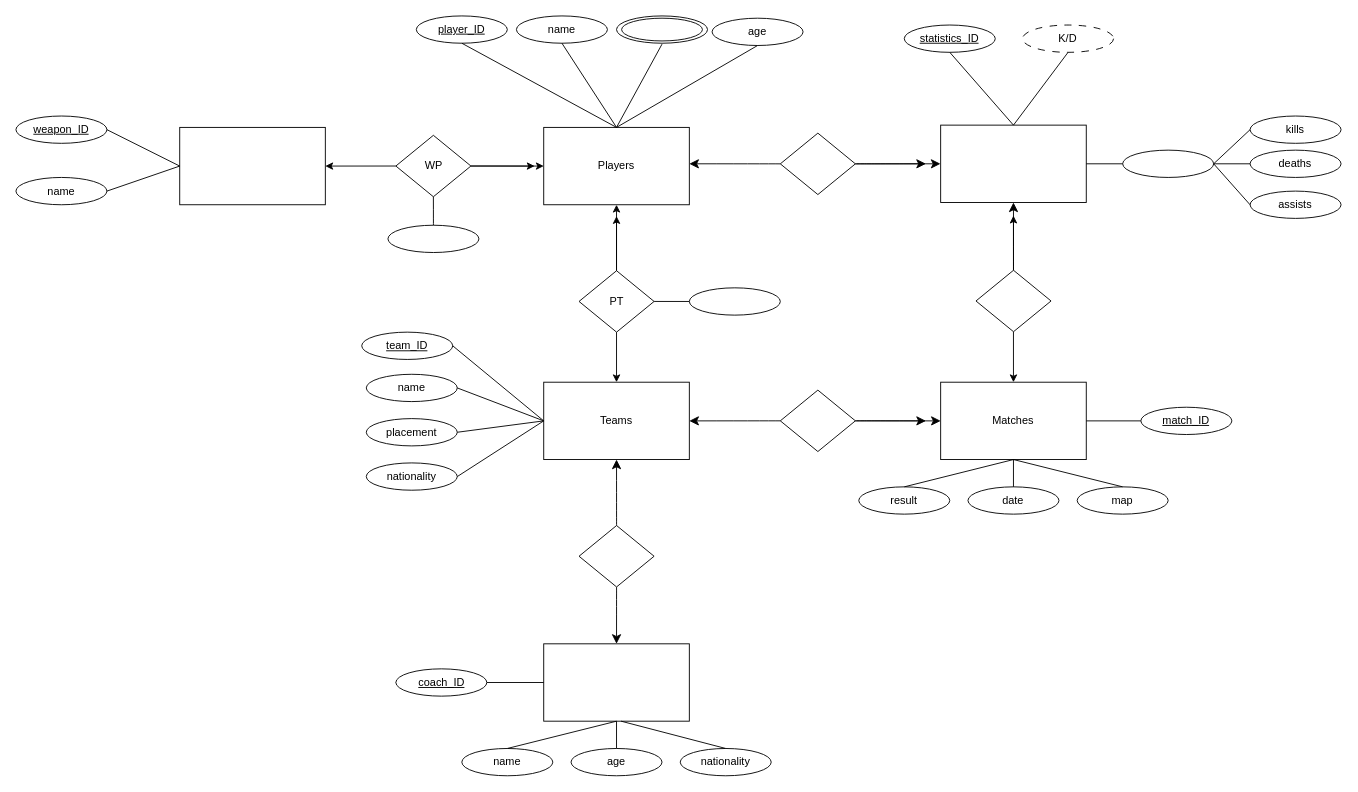
Some shapes in this 1358 by 792 pixel diagram are drawn without their labels. Here are the shapes that lost their labels. From the top down, the box of each, then its label:
(616, 15, 708, 43): characters
(179, 126, 325, 205): Weapons
(779, 132, 855, 195): PP
(940, 124, 1086, 202): Player_statistics
(1122, 149, 1214, 177): Stats
(387, 224, 479, 253): price
(688, 287, 780, 315): rating
(975, 269, 1051, 332): PM
(779, 389, 855, 452): TM
(578, 525, 654, 587): TC
(543, 643, 689, 721): Coach
